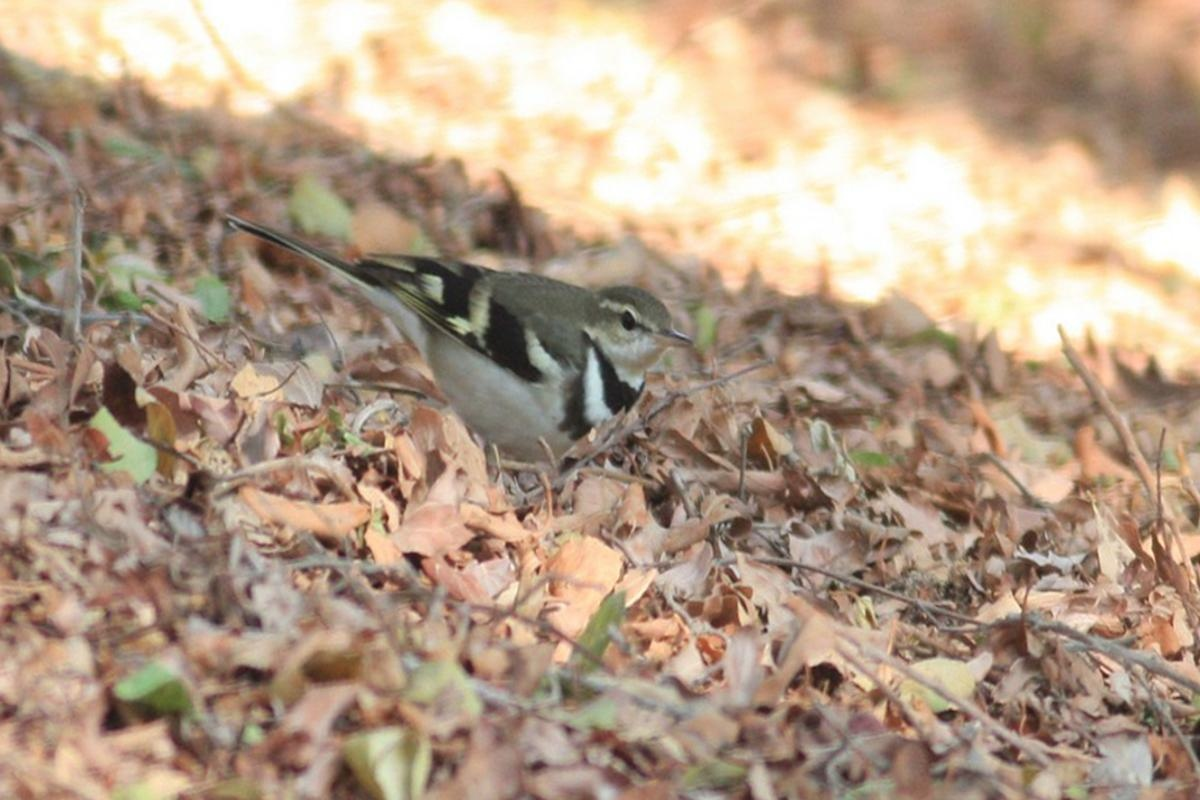wagtail: (267, 177, 745, 487)
